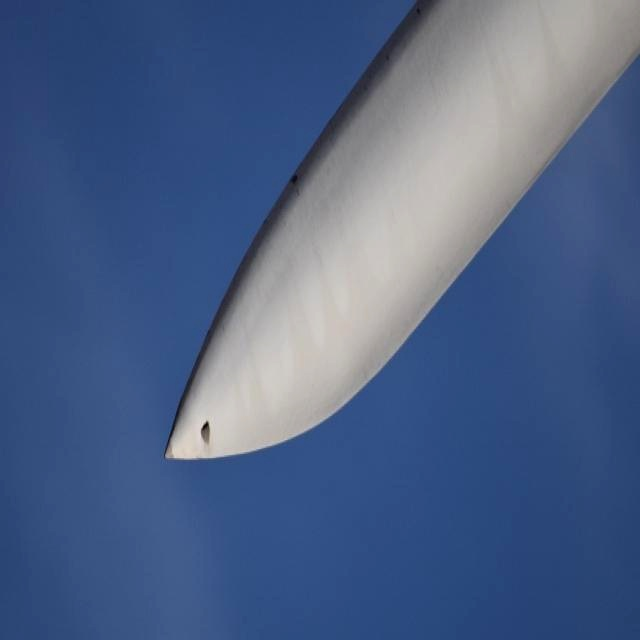Burn Mark: (198, 420, 214, 448)
Coating_defects: (284, 170, 305, 188)
